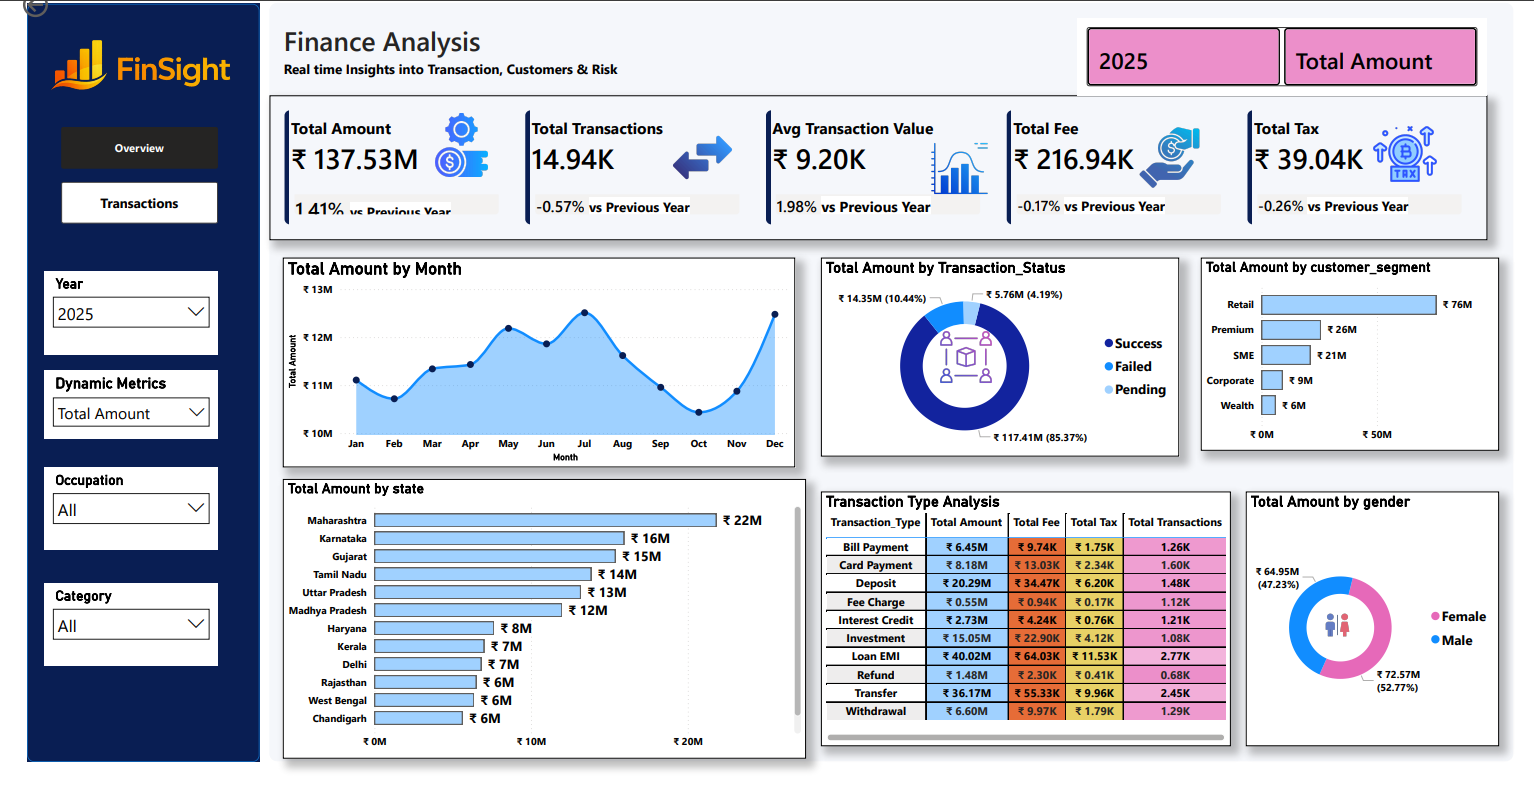

What the dashboard file says about the page in this screenshot:
{"tool":"powerbi","page":{"name":"Overview","canvas":[1800,950],"ordinal":0},"visuals":[{"type":"shape","box":[9.6,19.3,279.8,910.8],"z":0},{"type":"shape","box":[300.9,18,1492.9,910.8],"z":1000},{"type":"image","box":[31.1,31.1,235.5,124.3],"z":2000},{"type":"cardVisual","fields":{"Data":["finance_transactions.Dashboard Title"]},"box":[300.9,19.6,456.2,109.6],"z":3000},{"type":"cardVisual","fields":{"Data":["finance_transactions.Total Amount","finance_transactions.Total Transactions","finance_transactions.Avg Transaction Value","finance_transactions.Total Fee","finance_transactions.Total Tax"]},"box":[300.9,129.2,1461.9,173.3],"z":4000},{"type":"slicer","fields":{"Values":["Calendar Table.Year"]},"box":[31.1,340.1,207.7,99.7],"z":5000},{"type":"image","box":[493.8,129.2,75.2,117.7],"z":6000},{"type":"image","box":[783.3,143.9,75.2,117.7],"z":7000},{"type":"image","box":[1093.9,150.4,70.3,132.4],"z":8000},{"type":"image","box":[1344.1,143.9,75.2,117.7],"z":9000},{"type":"image","box":[1618.8,150.4,89.9,96.5],"z":10000},{"type":"areaChart","fields":{"Y":["finance_transactions.Total Amount"],"Category":["Calendar Table.Month"]},"box":[317.2,323.8,614.8,251.8],"z":11000},{"type":"slicer","fields":{"Values":["Dynamic Metrics.Dynamic Metrics"]},"box":[31.1,459.5,207.7,81.8],"z":12000},{"type":"cardVisual","fields":{"Data":["finance_transactions.Selected Year Title","finance_transactions.Selected Dynamic Measuree"]},"box":[1270.5,36,492.2,93.2],"z":13000},{"type":"donutChart","fields":{"Y":["finance_transactions.Total Amount"],"Category":["finance_transactions.transaction_status"]},"box":[963.1,323.8,430.1,238.7],"z":14000},{"type":"barChart","fields":{"Y":["finance_transactions.Total Amount"],"Category":["customers.customer_segment"]},"box":[1419.3,323.8,358.1,232.2],"z":15000},{"type":"barChart","fields":{"Y":["finance_transactions.Total Amount"],"Category":["customers.state"]},"box":[317.2,590.3,627.9,335.2],"z":16000},{"type":"tableEx","title":"Transaction Type Analysis","fields":{"Values":["finance_transactions.transaction_type","finance_transactions.Total Amount","finance_transactions.Total Fee","finance_transactions.Total Tax","finance_transactions.Total Transactions"]},"box":[963.1,605,492.2,305.8],"z":17000},{"type":"donutChart","fields":{"Y":["finance_transactions.Total Amount"],"Category":["customers.gender"]},"box":[1473.3,605,304.1,305.8],"z":18000},{"type":"image","box":[1093.9,410.4,85,65.4],"z":19000},{"type":"image","box":[1568.1,744,31.1,42.5],"z":20000},{"type":"actionButton","box":[0,0,100,40],"z":21000},{"type":"slicer","fields":{"Values":["customers.occupation"]},"box":[31.1,575.6,207.7,99.7],"z":22000},{"type":"slicer","fields":{"Values":["finance_transactions.merchant_category"]},"box":[31.1,714.6,207.7,99.7],"z":23000},{"type":"pageNavigator","box":[50.7,166.8,188,116.1],"z":24000}]}

Visuals, with their boxes on the page's 1800x950 design canvas (x1, y1, x2, y2). These are canvas units, not pixel positions in the 1534x798 screenshot, which may show the page scaled, cropped or inside an application window:
shape: (10, 19, 289, 930)
shape: (301, 18, 1794, 929)
image: (31, 31, 267, 155)
cardVisual - finance_transactions.Dashboard Title: (301, 20, 757, 129)
cardVisual - finance_transactions.Total Amount x finance_transactions.Total Transactions: (301, 129, 1763, 302)
slicer - Calendar Table.Year: (31, 340, 239, 440)
image: (494, 129, 569, 247)
image: (783, 144, 858, 262)
image: (1094, 150, 1164, 283)
image: (1344, 144, 1419, 262)
image: (1619, 150, 1709, 247)
areaChart - finance_transactions.Total Amount x Calendar Table.Month: (317, 324, 932, 576)
slicer - Dynamic Metrics.Dynamic Metrics: (31, 460, 239, 541)
cardVisual - finance_transactions.Selected Year Title x finance_transactions.Selected Dynamic Measuree: (1270, 36, 1763, 129)
donutChart - finance_transactions.Total Amount x finance_transactions.transaction_status: (963, 324, 1393, 562)
barChart - finance_transactions.Total Amount x customers.customer_segment: (1419, 324, 1777, 556)
barChart - finance_transactions.Total Amount x customers.state: (317, 590, 945, 926)
"Transaction Type Analysis" tableEx: (963, 605, 1455, 911)
donutChart - finance_transactions.Total Amount x customers.gender: (1473, 605, 1777, 911)
image: (1094, 410, 1179, 476)
image: (1568, 744, 1599, 786)
actionButton: (0, 0, 100, 40)
slicer - customers.occupation: (31, 576, 239, 675)
slicer - finance_transactions.merchant_category: (31, 715, 239, 814)
pageNavigator: (51, 167, 239, 283)
